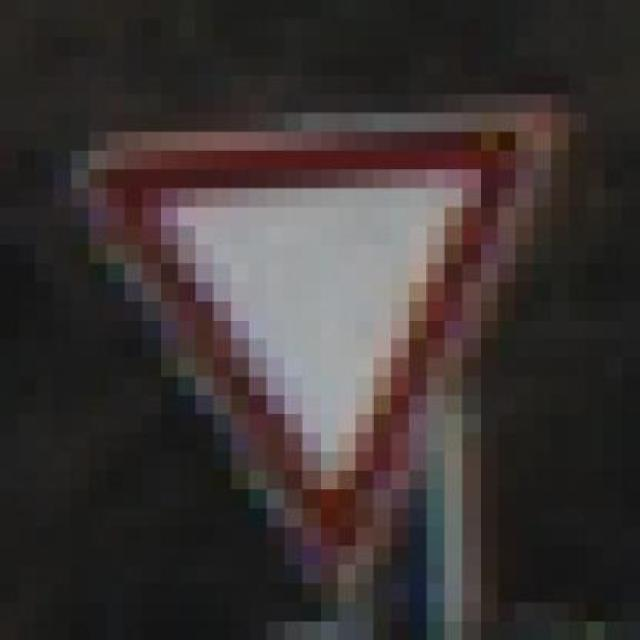Give Way: (58, 56, 592, 602)
